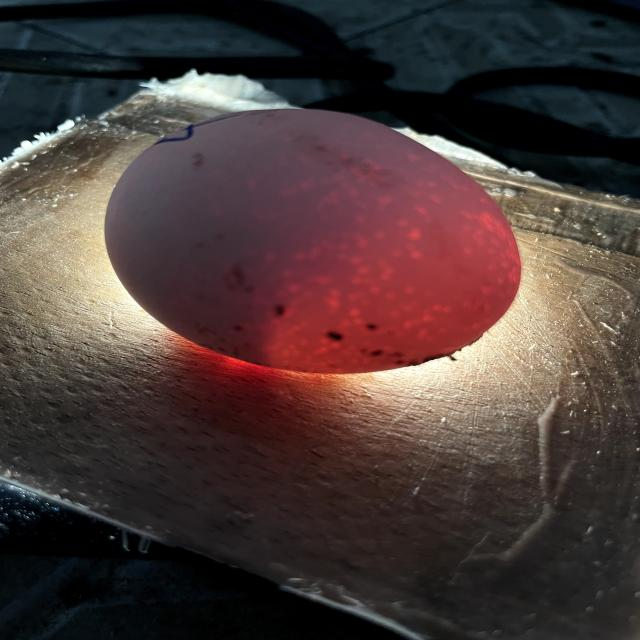fertile: (105, 109, 520, 373)
